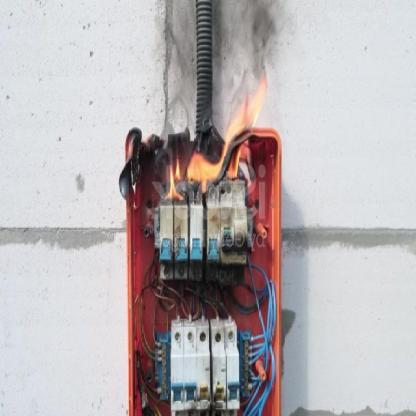fire: (163, 79, 269, 202)
smoke: (157, 0, 279, 143)
